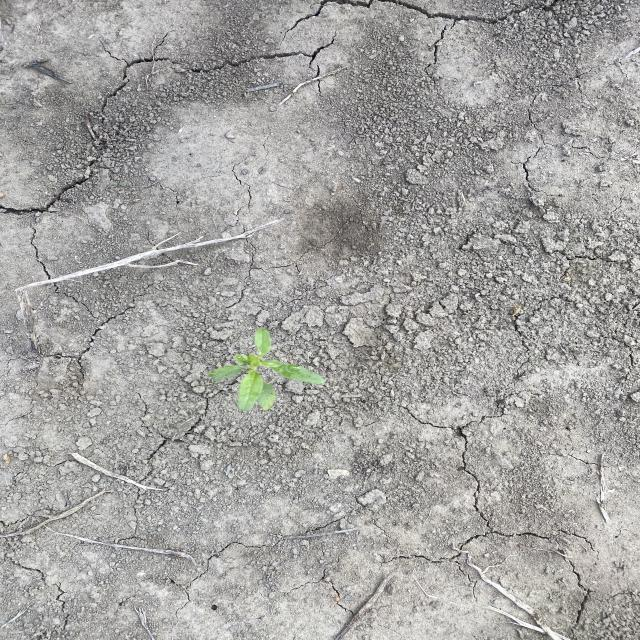Waterhemp: (205, 326, 328, 413)
